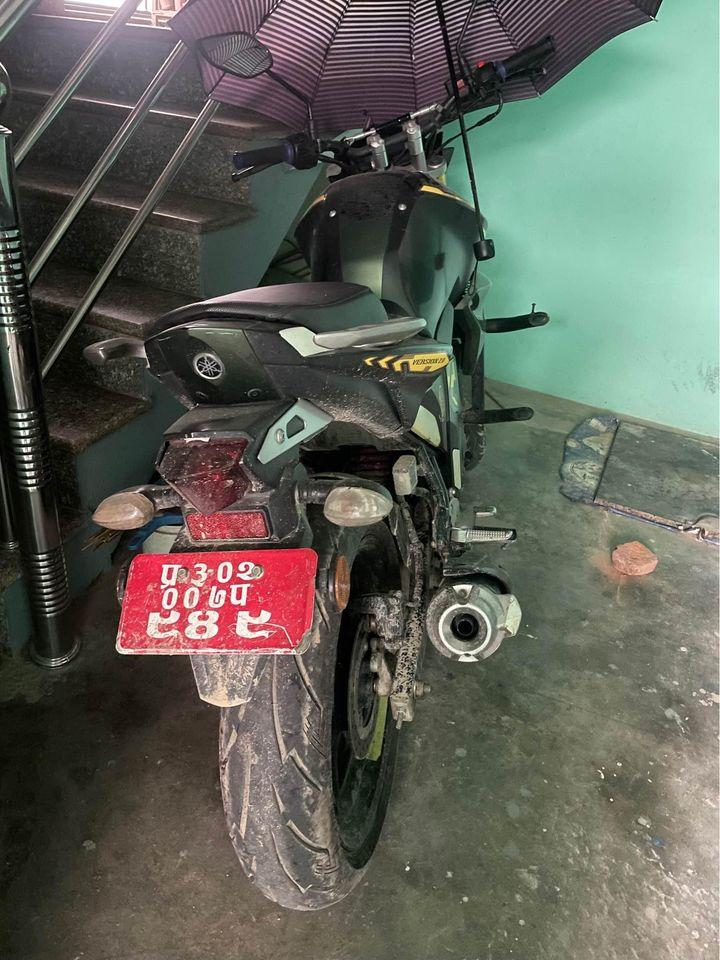bike: (73, 10, 557, 919)
